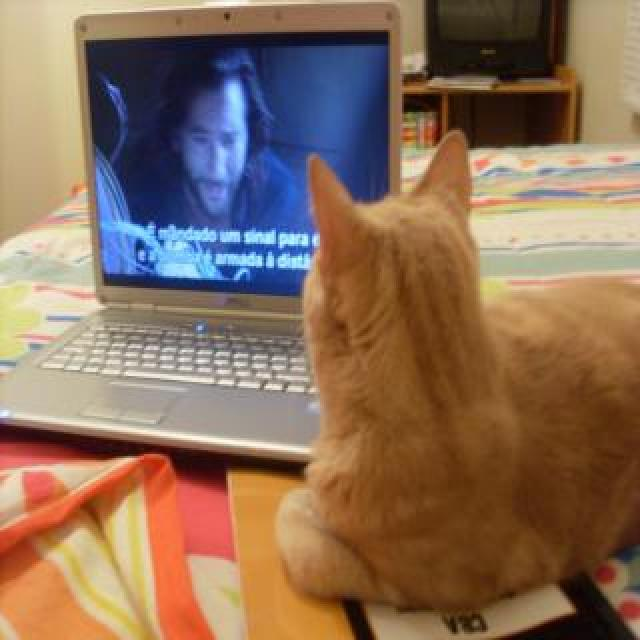laptop_computer: (40, 6, 431, 469)
